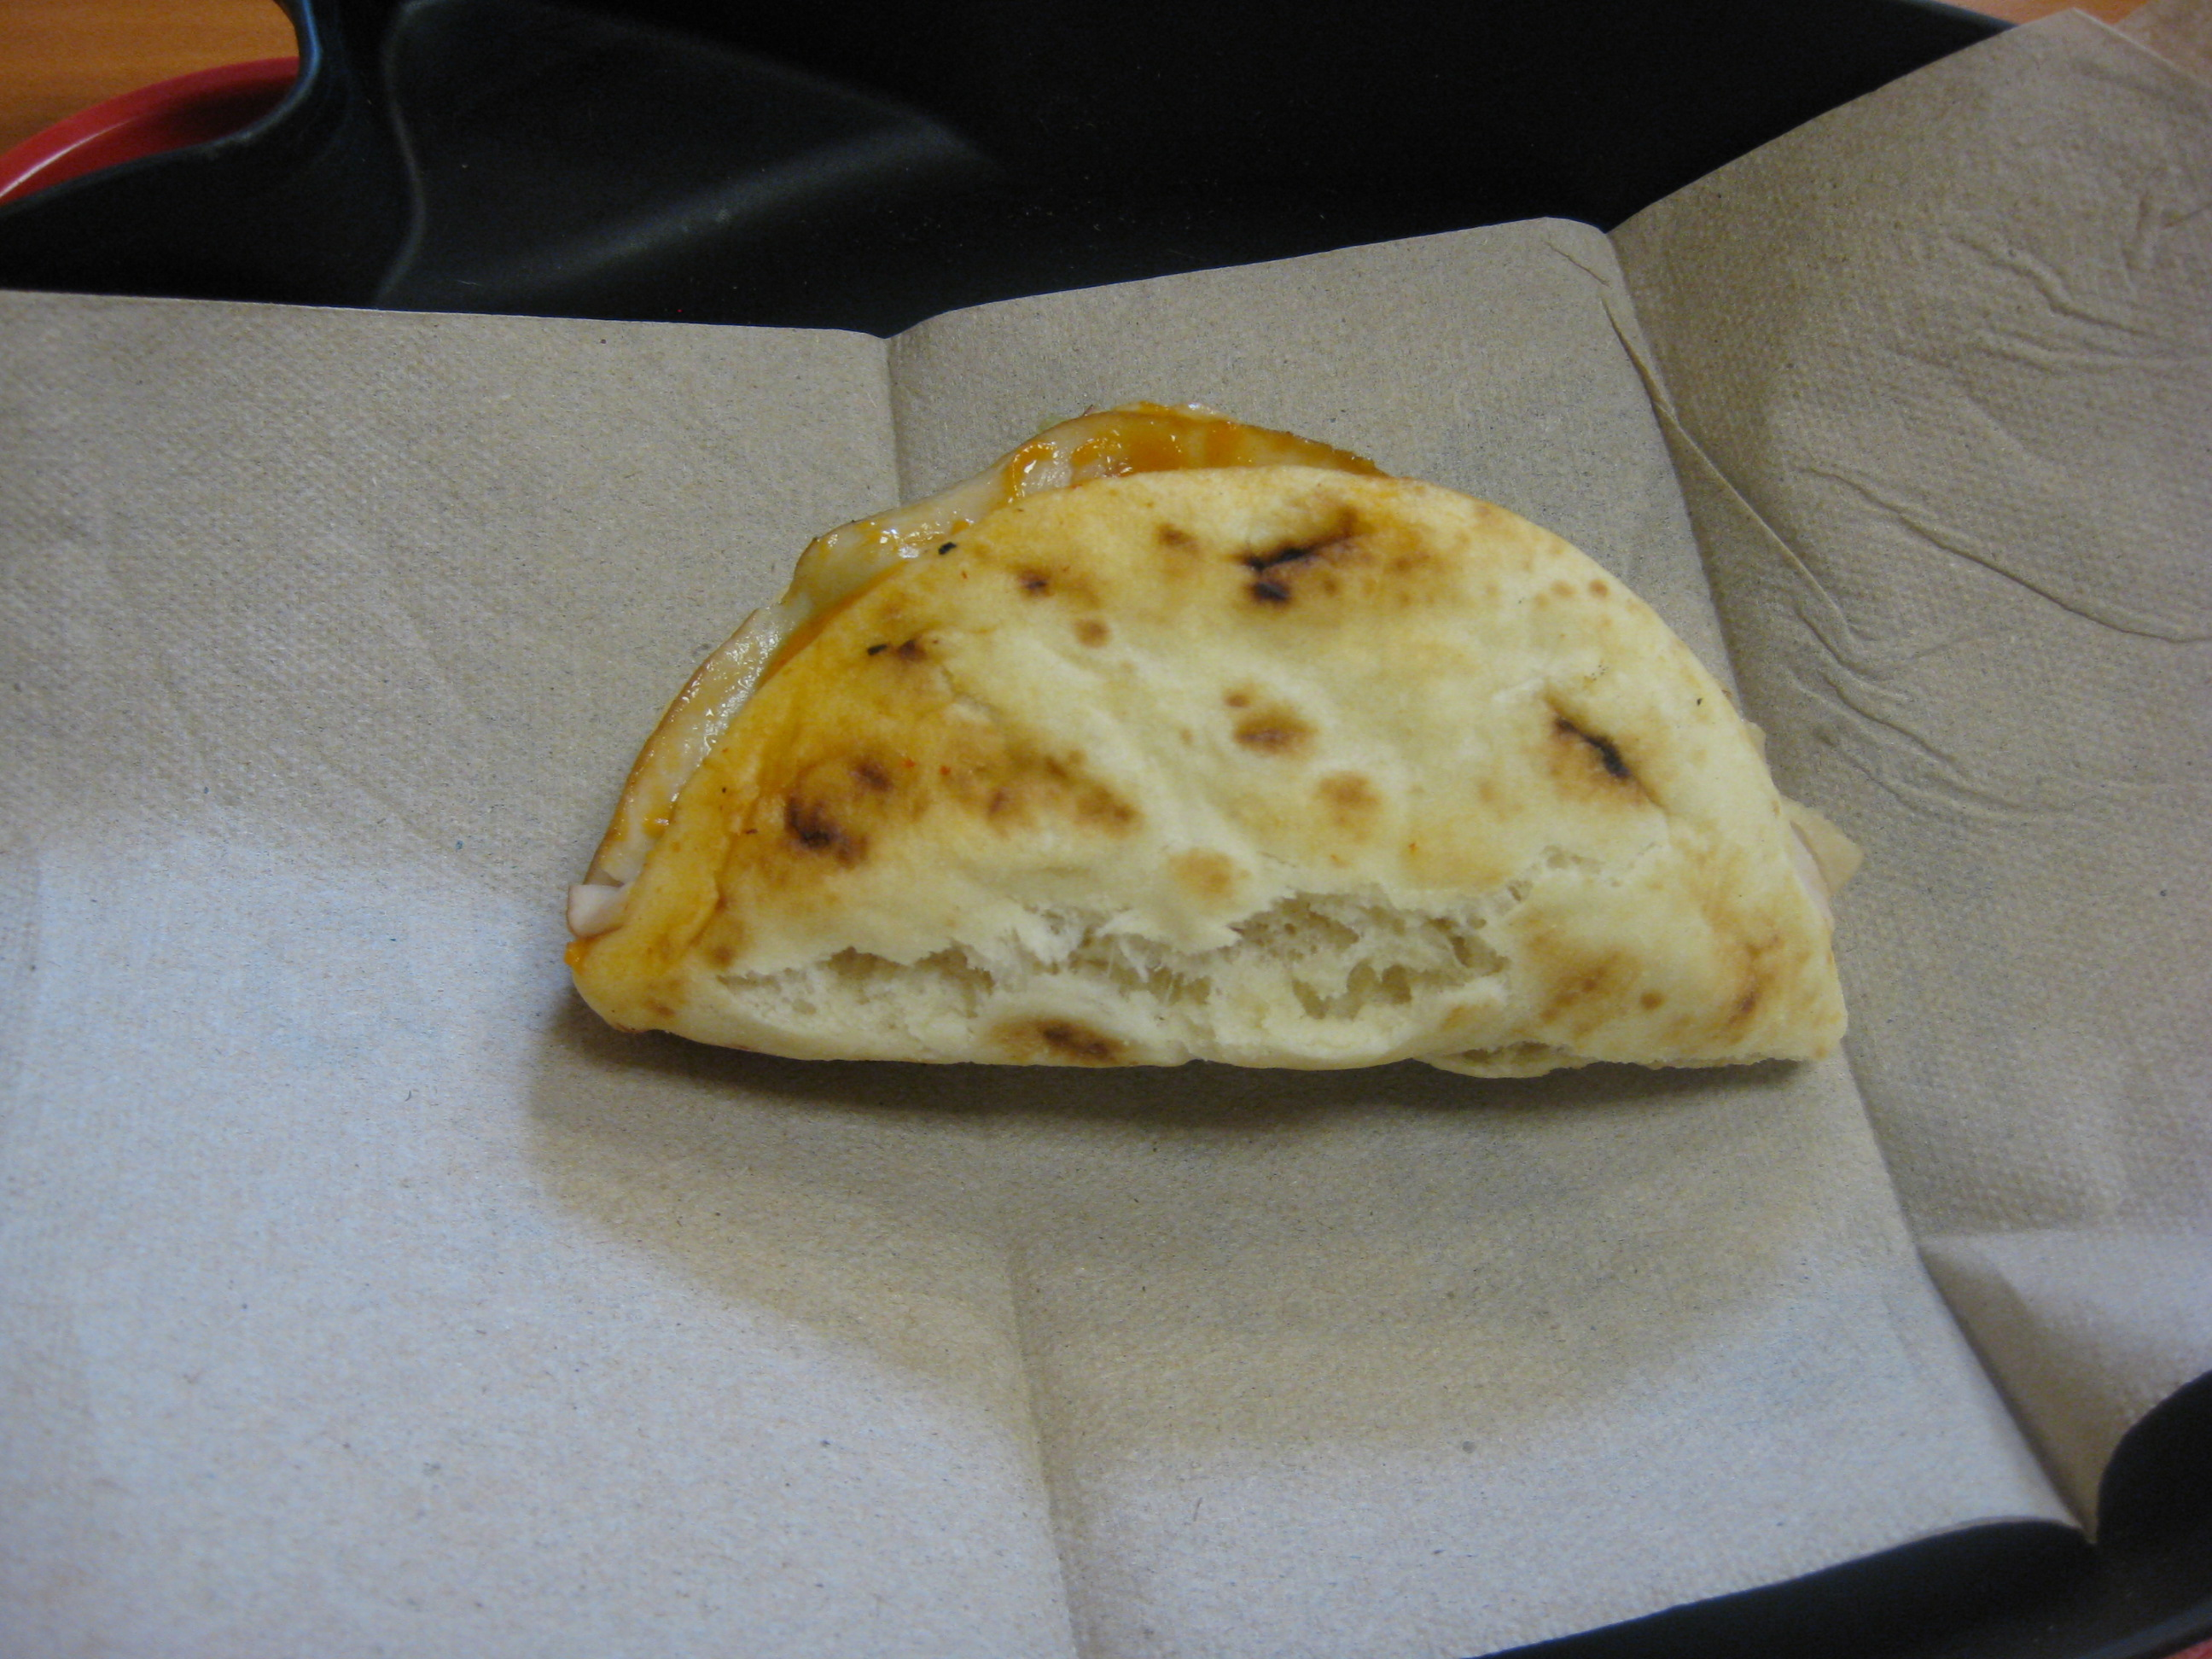taco: (518, 275, 1926, 1147)
